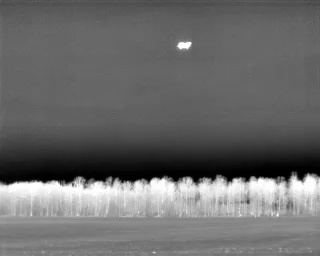DRONE: (174, 37, 195, 55)
